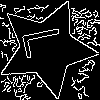L: (21, 23, 73, 60)
